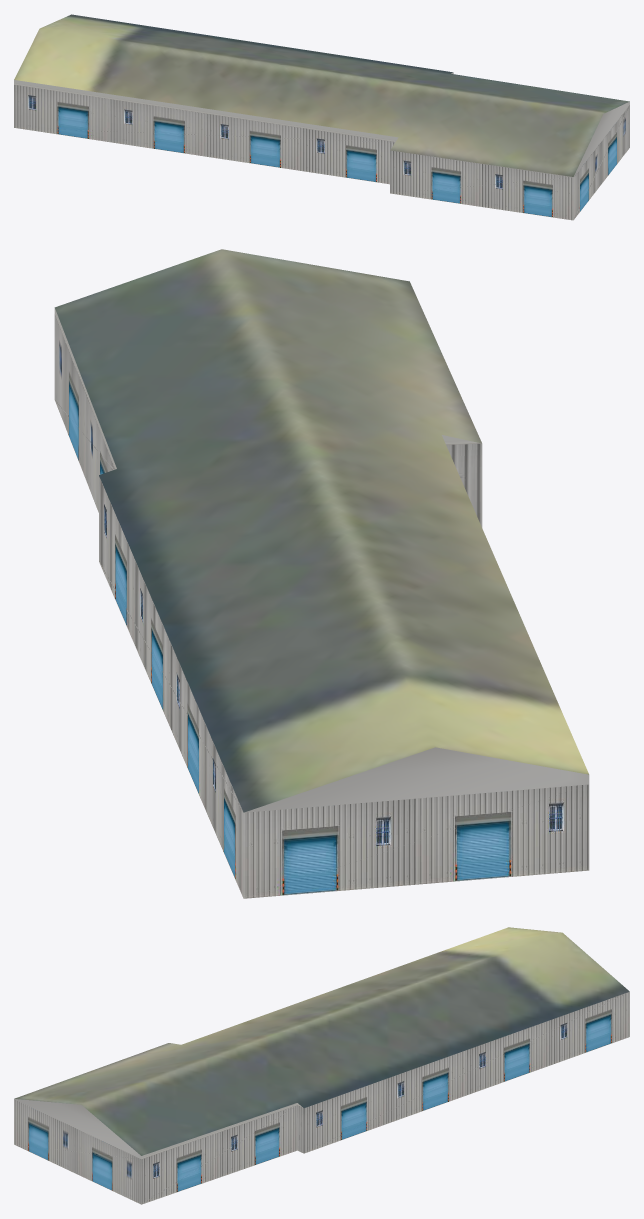
The picture shows the model from 3 angles, top to bottom: view 1: azimuth 30°, elevation 25°; view 2: azimuth 150°, elevation 25°; view 3: azimuth 270°, elevation 25°; orthographic projection. The views are drawn at different scales.
Parts seen in each view (by area): view 1: SketchUp (×4); view 2: SketchUp (×3); view 3: SketchUp (×4).
Part boxes in pixels (x1,y1,x2,y2): SketchUp (×4): (14, 14, 629, 220); SketchUp (×3): (54, 249, 589, 898); SketchUp (×4): (14, 927, 629, 1204).
Size of what is drawn, in the model's own units: 1396 by 1601 by 205.
5 materials, 4 textured.
